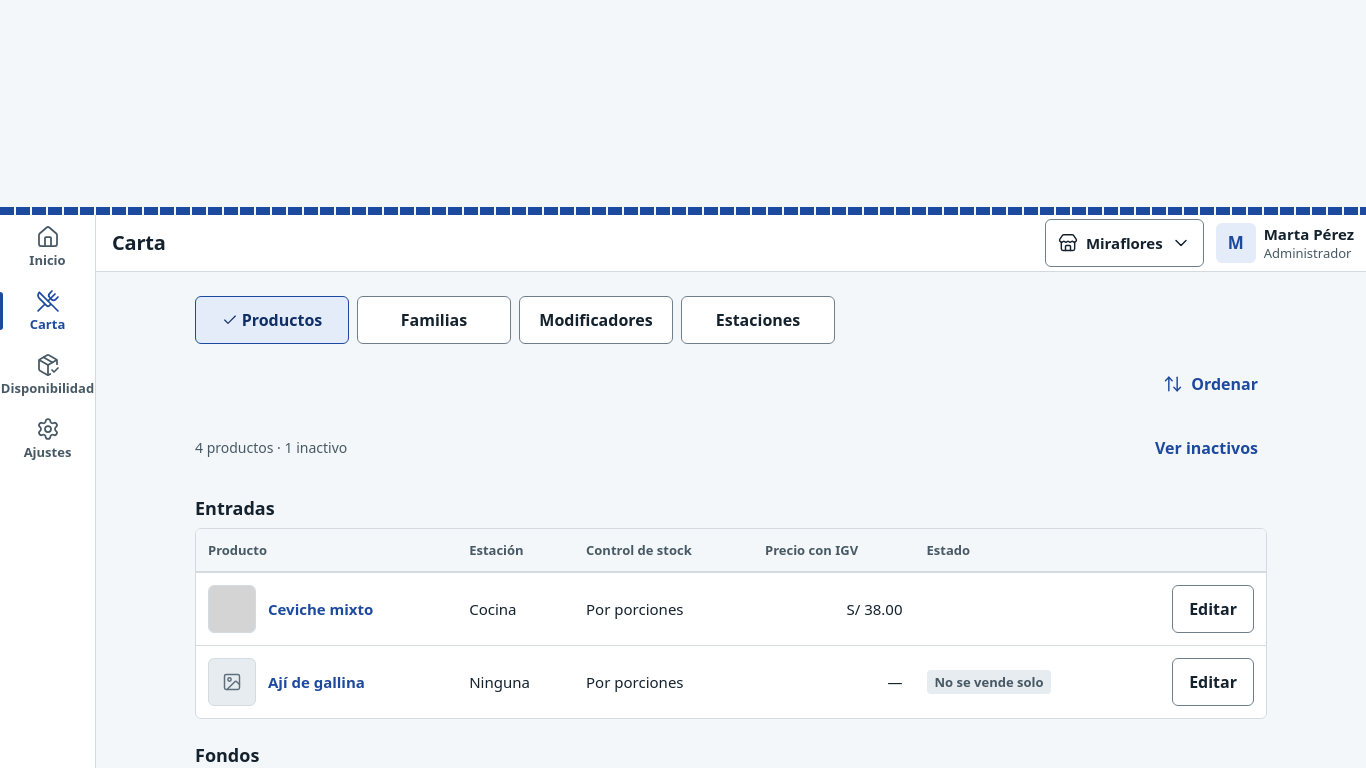
Test: lista de productos › ordena con subir y bajar, y guarda solo las familias que cambiaron
This screenshot has width=1366, height=768.
(page scrolled)
Expected: the element "Entradas" is shown, x1=195 y1=488 x2=1267 y2=719
Click the button "Ordenar": (1211,384) x1=1154 y1=360 x2=1267 y2=408
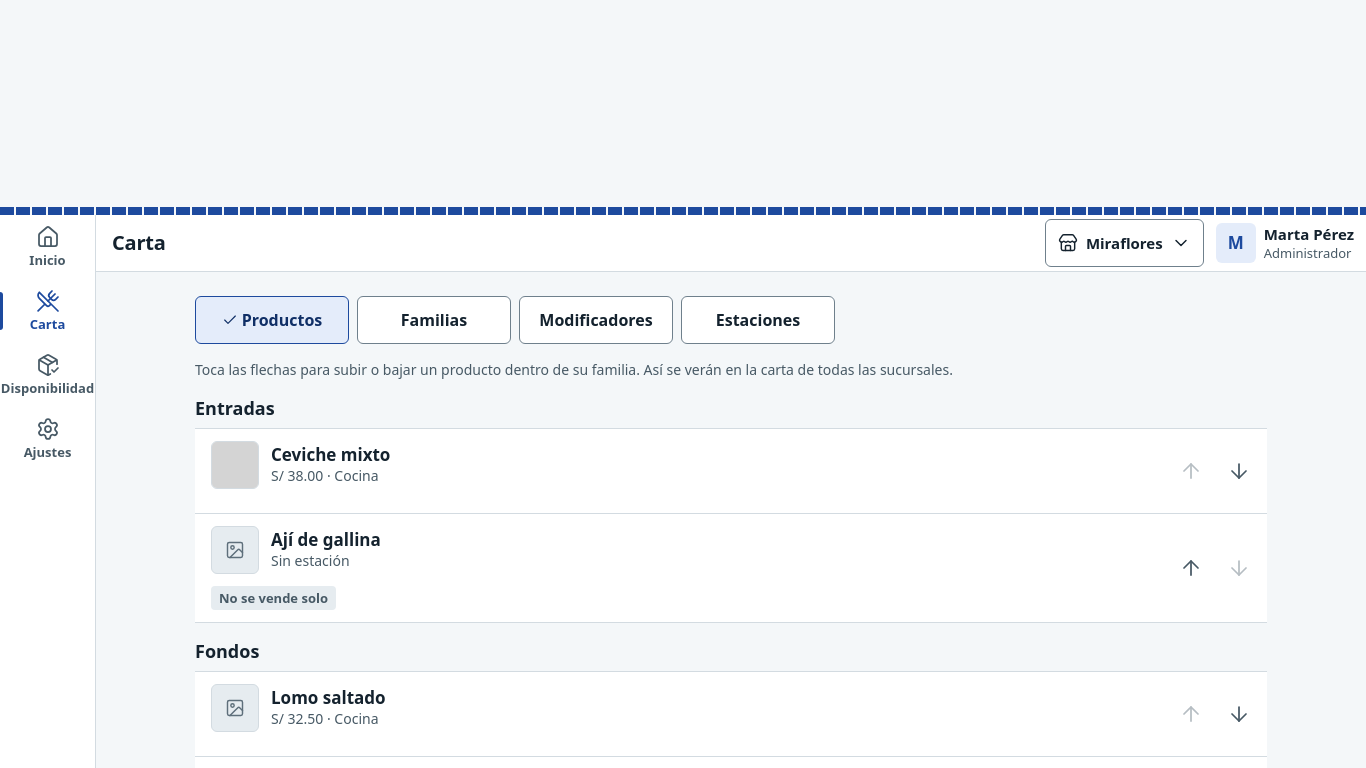
Click the button named "Bajar Ceviche mixto": (1239,471) x1=1215 y1=447 x2=1263 y2=495
(page scrolled)
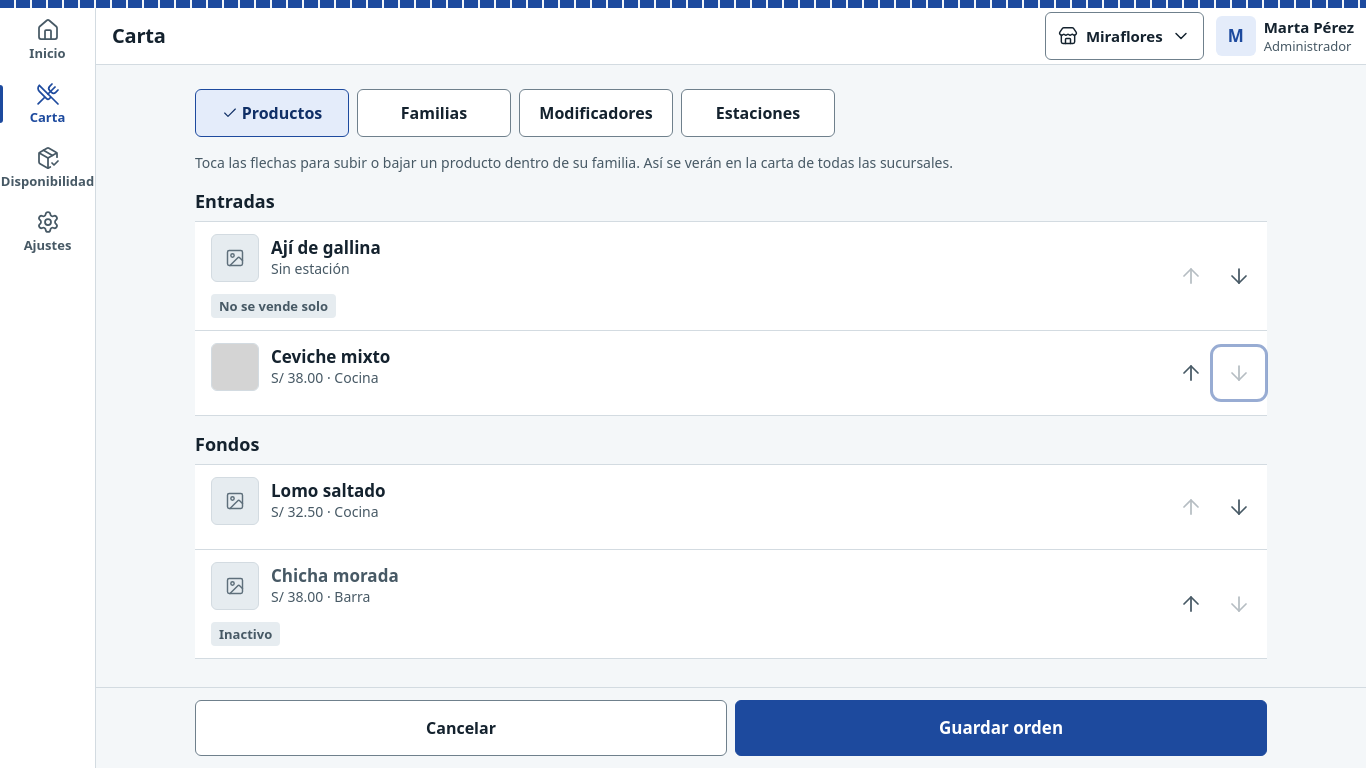
Click the button "Guardar orden": (1001,728) x1=735 y1=700 x2=1267 y2=756
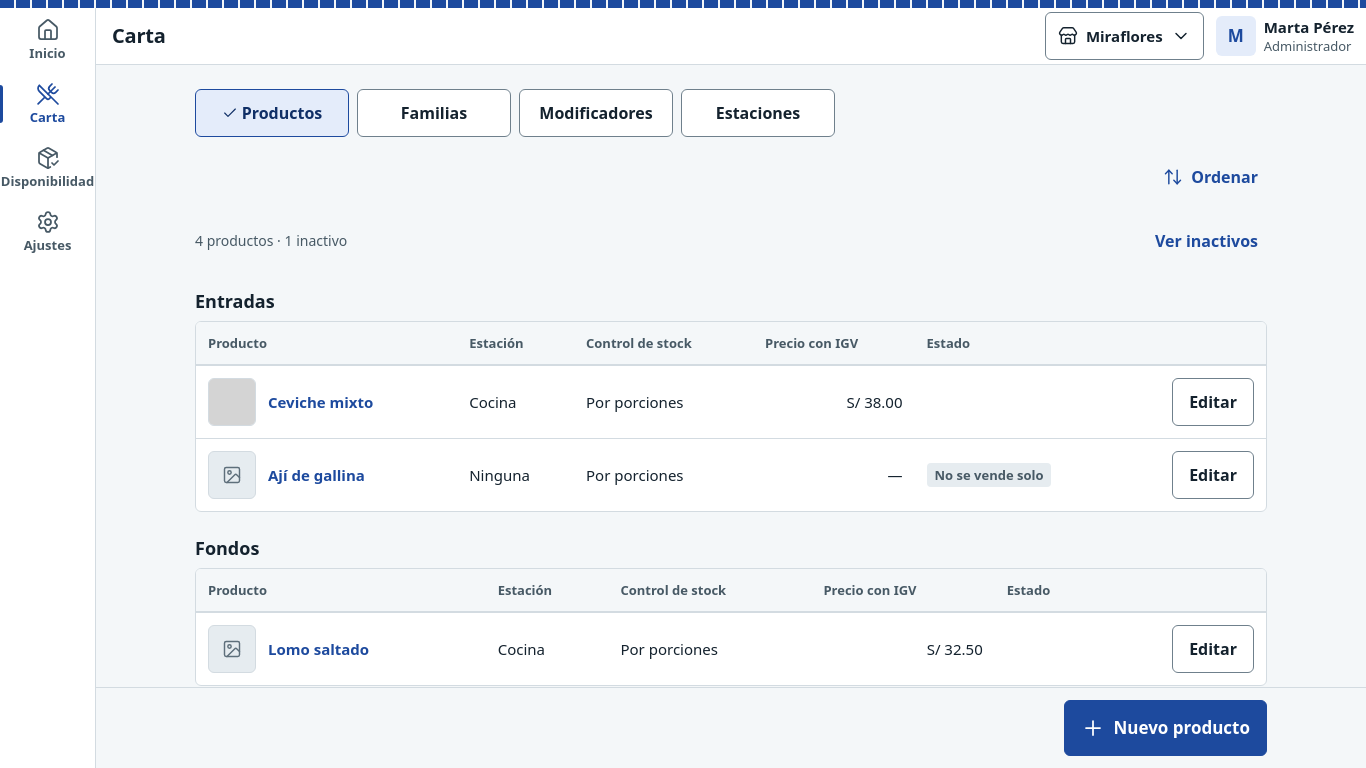
Now the button "Guardar orden" is gone
